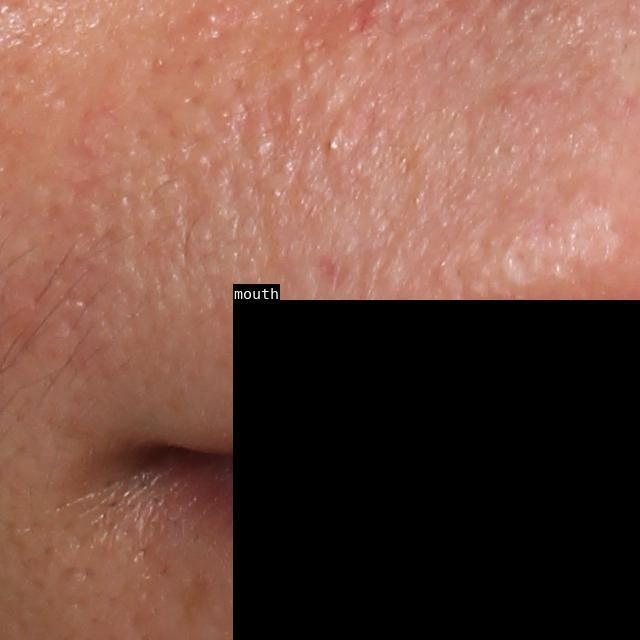comedo: (320, 133, 346, 158)
